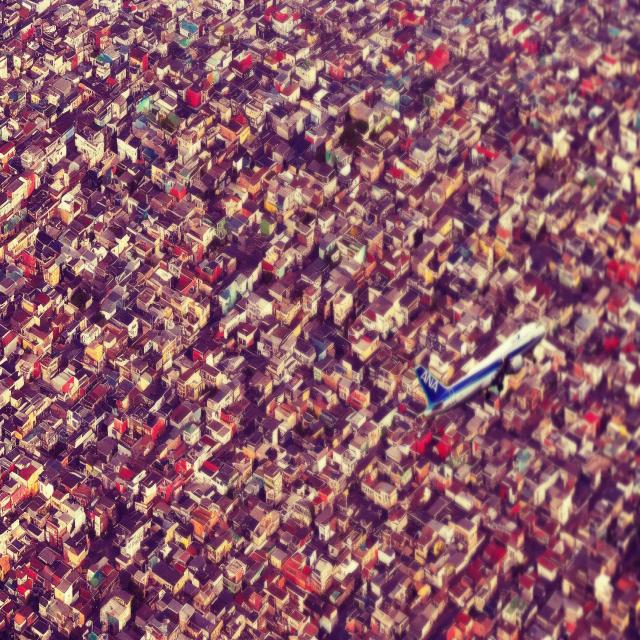airplane: (413, 320, 546, 424)
